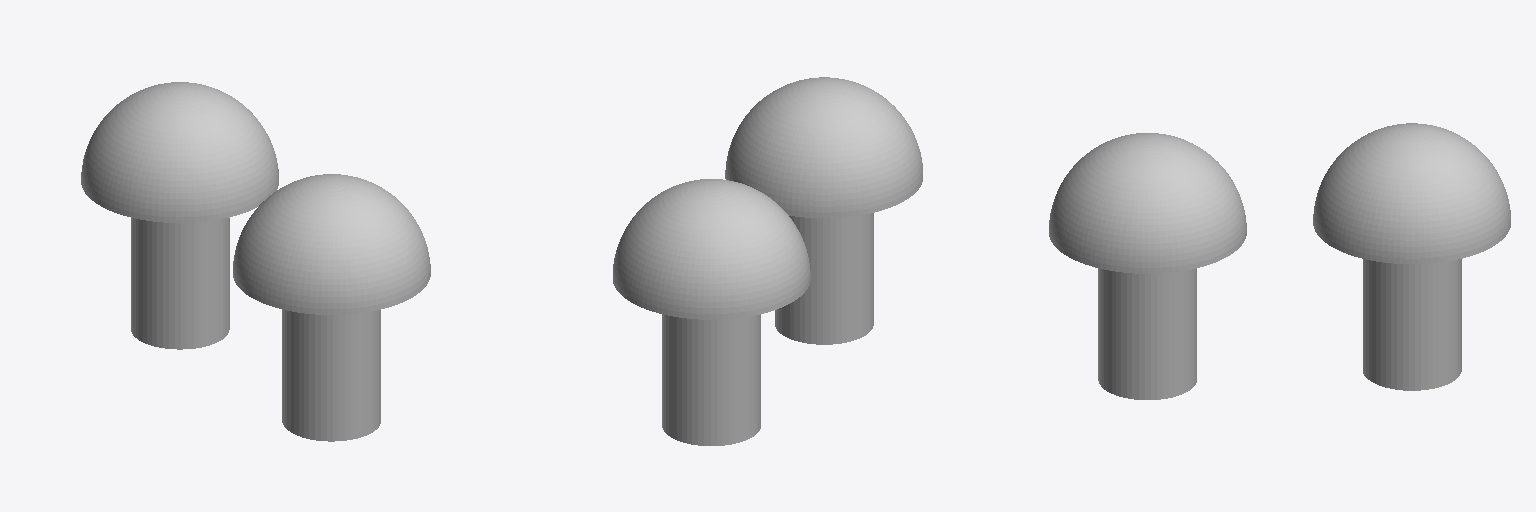
File: trees.obj
The picture shows the model from 3 angles: view 1: azimuth 30°, elevation 25°; view 2: azimuth 150°, elevation 25°; view 3: azimuth 270°, elevation 25°; orthographic projection.
Parts seen in each view (by area): view 1: default; view 2: default; view 3: default.
Part boxes in pixels (x1,y1,x2,y2): default: (81, 82, 430, 441); default: (613, 77, 922, 445); default: (1049, 123, 1510, 399).
Bounding box in the file's own units: 22.27 × 26.41 × 46.67.